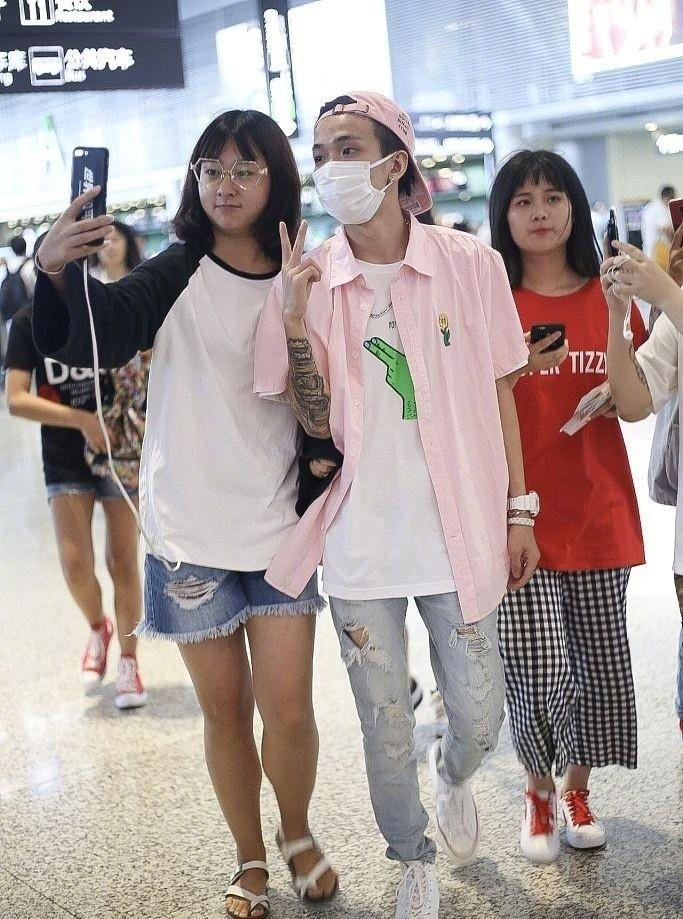NONE: (199, 151, 276, 235), (507, 189, 572, 251)
OK: (308, 133, 395, 220)
